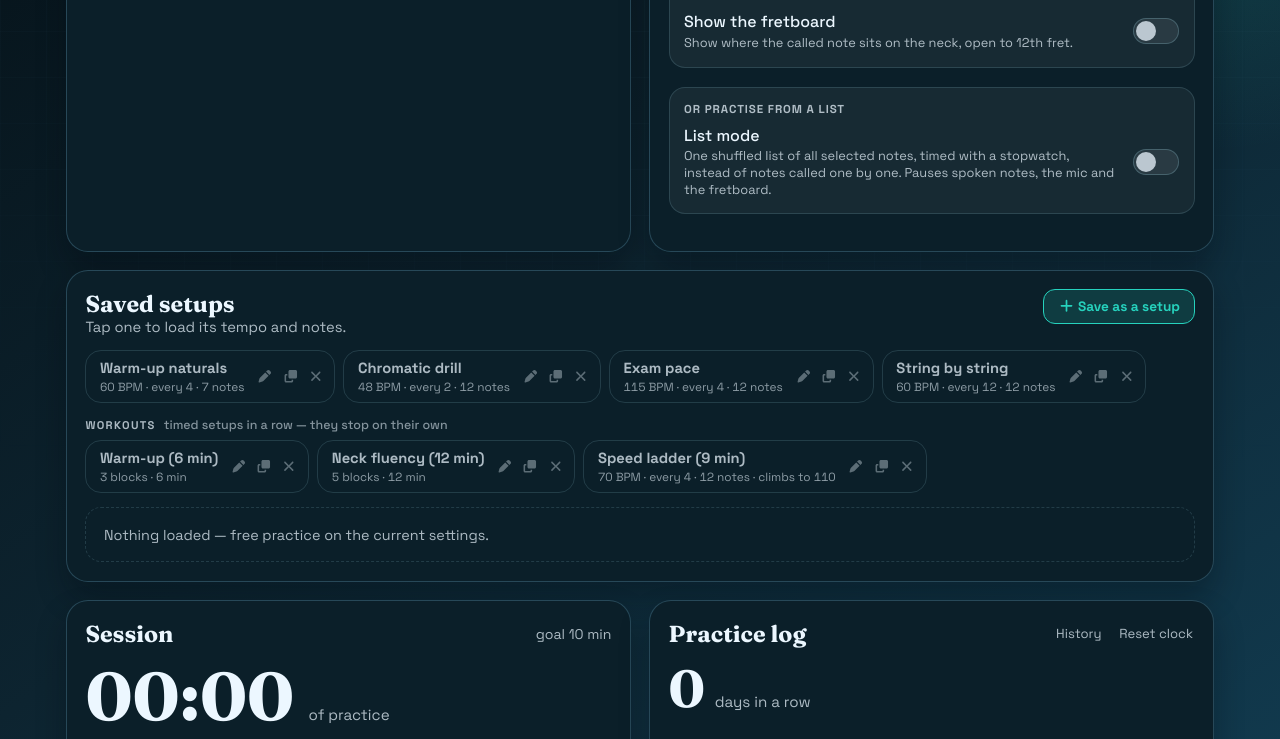
Test case: App integration › warns when the store held the old shelf but has no room for the new setup
(page scrolled)
Click the button with test id "routine-save" at (1119, 307), box [1043,289,1195,324]
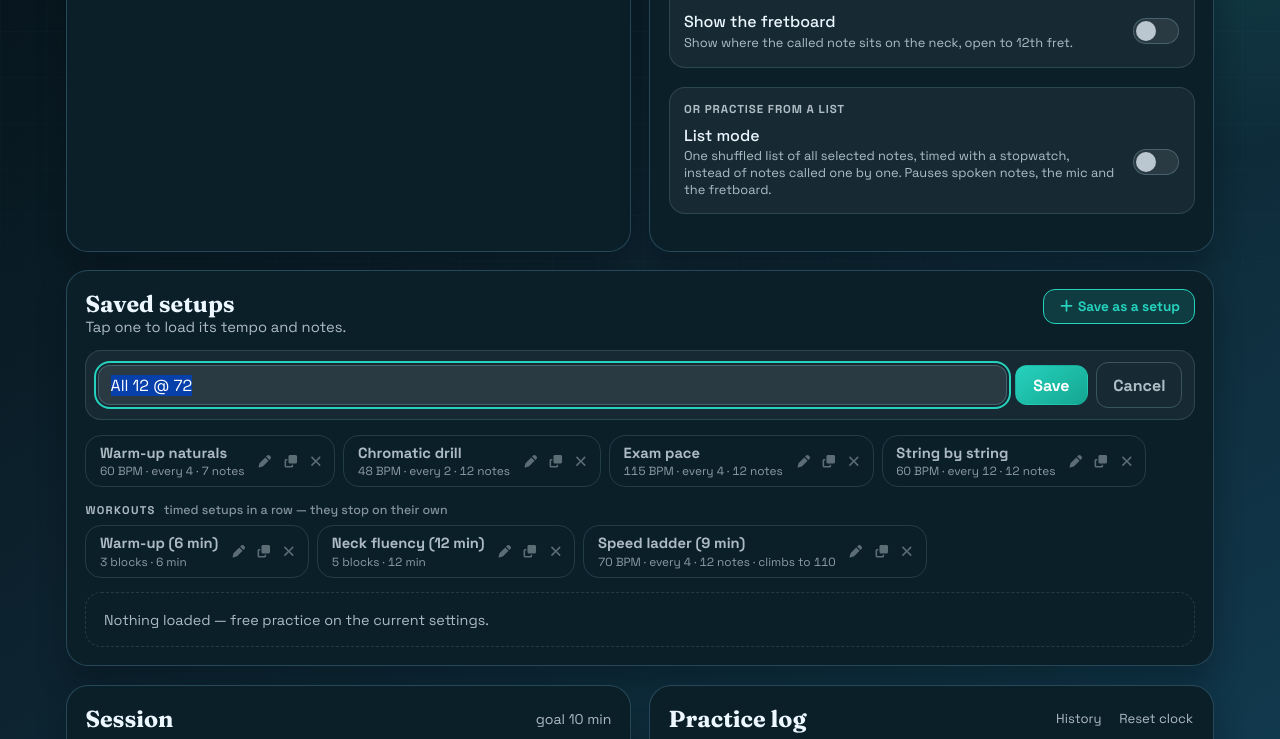
Replace the text in the field with test id "routine-name-input" with "Too big to keep" at (552, 385), box [98,365,1007,406]
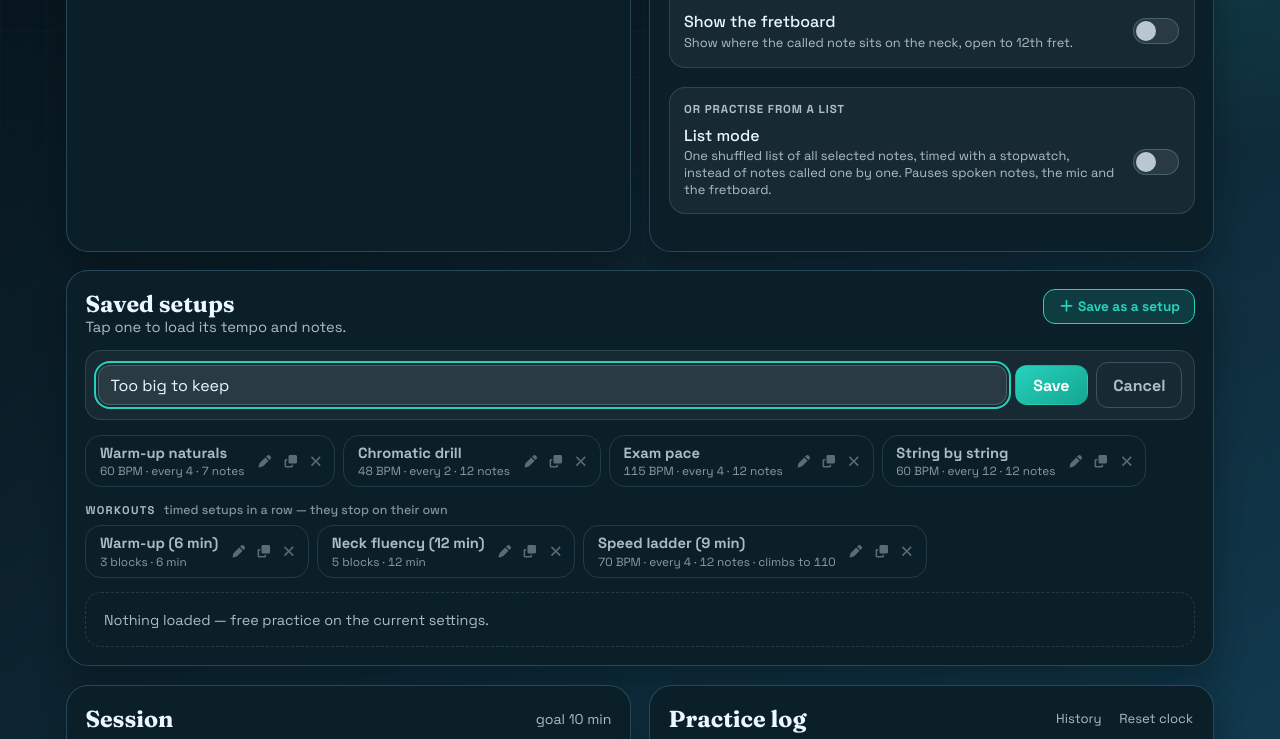
Click the button with test id "routine-save-confirm" at (1051, 385), box [1015,365,1088,406]
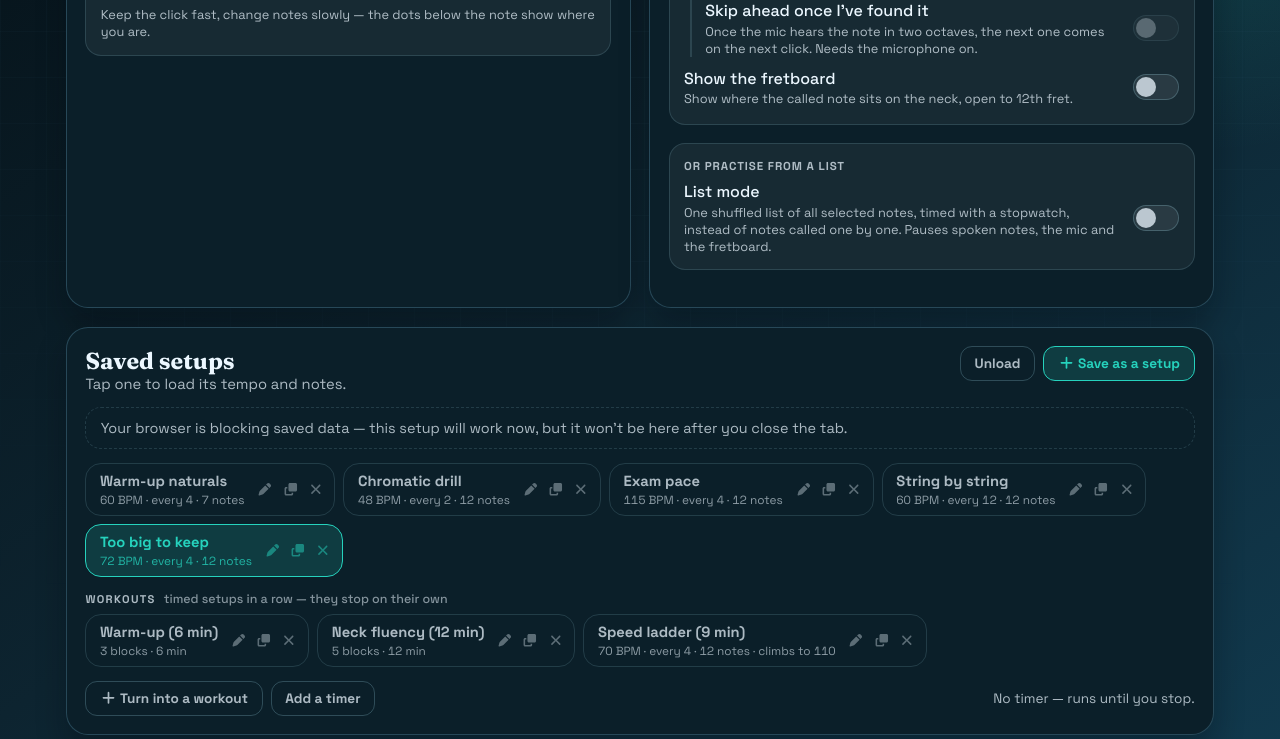
Expected: the element with test id "routine-shelf" shows "Too big to keep", [86,525,258,576]
Expected: the text with test id "routine-ephemeral-notice" shows "close the tab", [101,419,848,437]
